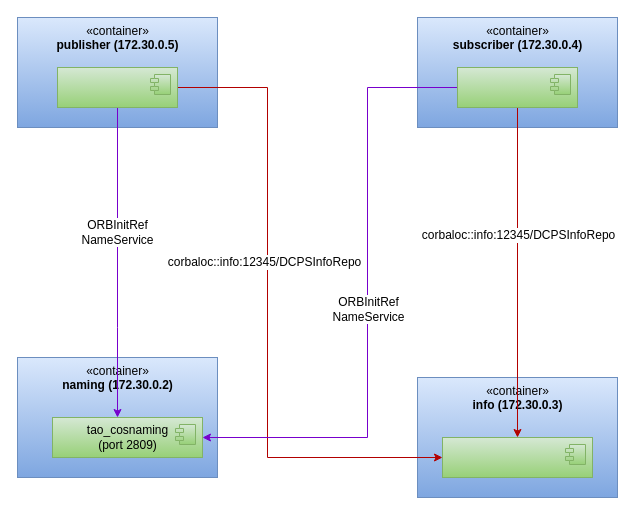
The diagram is 635 pixels wide and 515 high, and some of its shapes have lost their labels. Each missing label, with the centre of its shape:
DCPSInfoRepo (port 12345): the point at 517,457
publisher: the point at 117,87
suscriber: the point at 517,87
